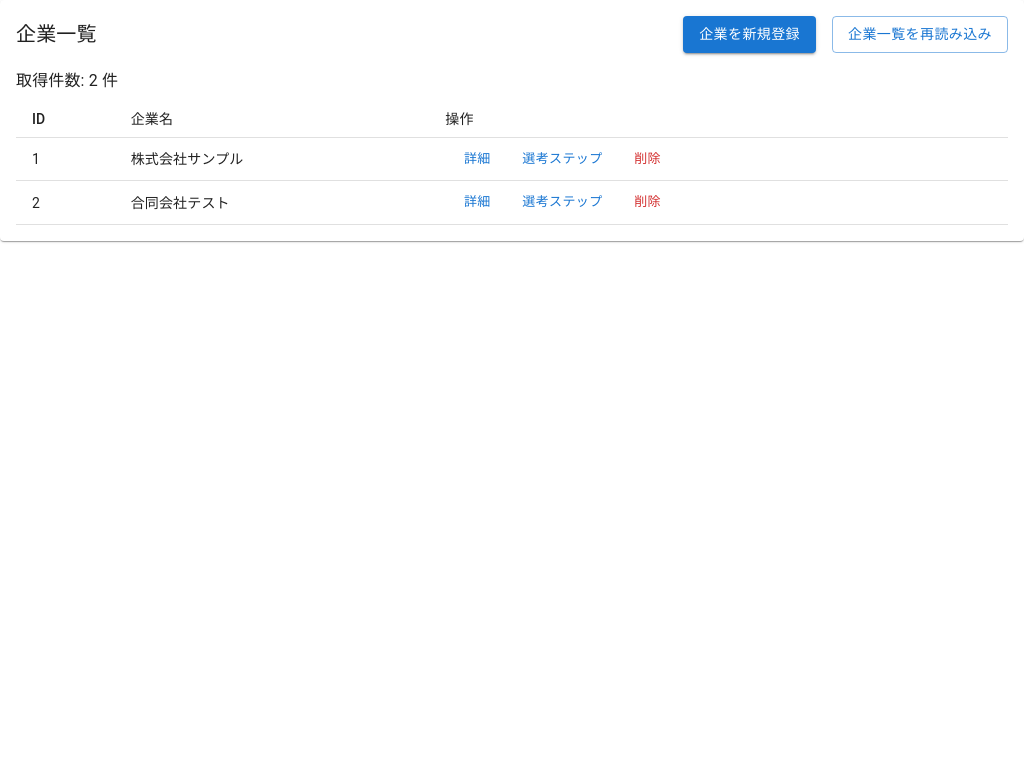
it: 企業詳細 › 詳細を開くと GET /companies/{id} の内容を表示する
Check: the text "取得件数: 2 件" is shown, box [16,70,118,90]
Click the button with aria-label "企業「合同会社テスト」の詳細". click: (477, 203)
box: [445,187,509,218]
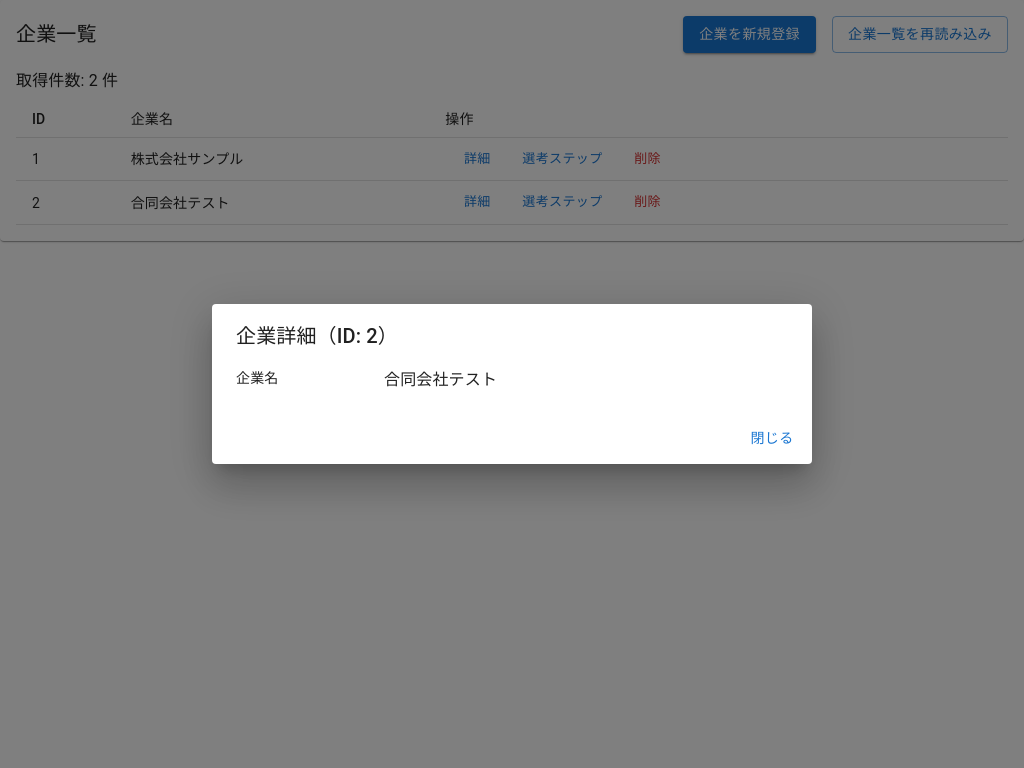
Check: the text "合同会社テスト" is shown, box [384,368,497,392]
